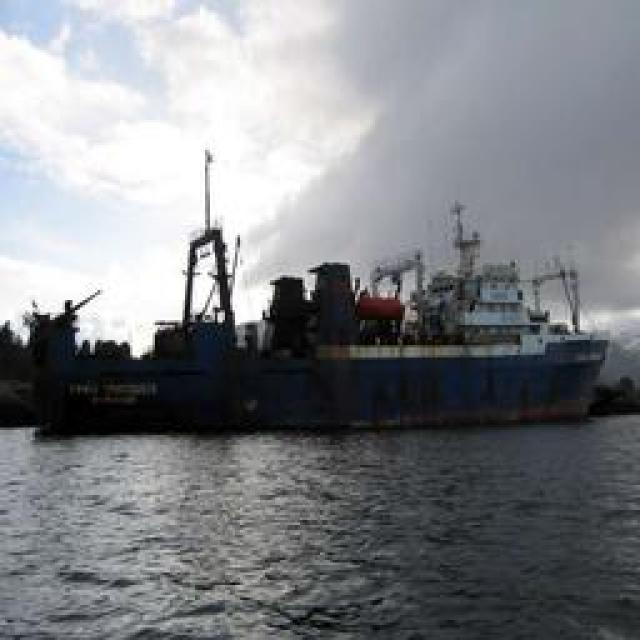CIV_Ship: (52, 168, 608, 434)
